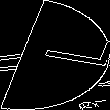L_W: (10, 34, 100, 76)
